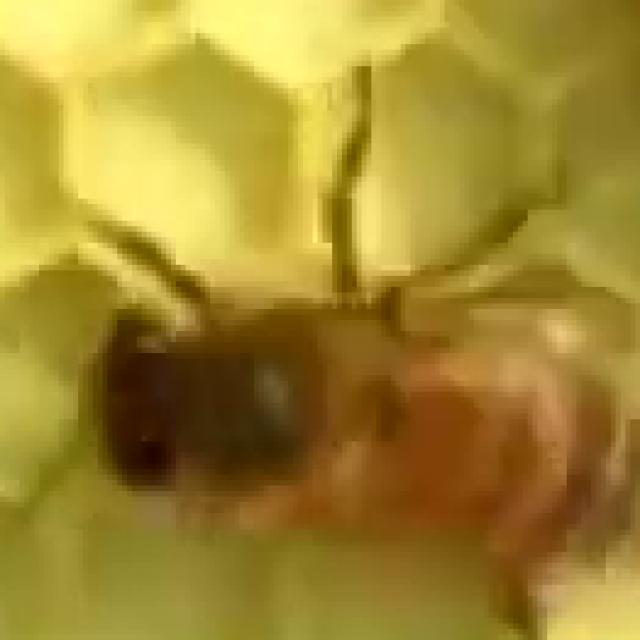honeybee: (29, 104, 608, 534)
